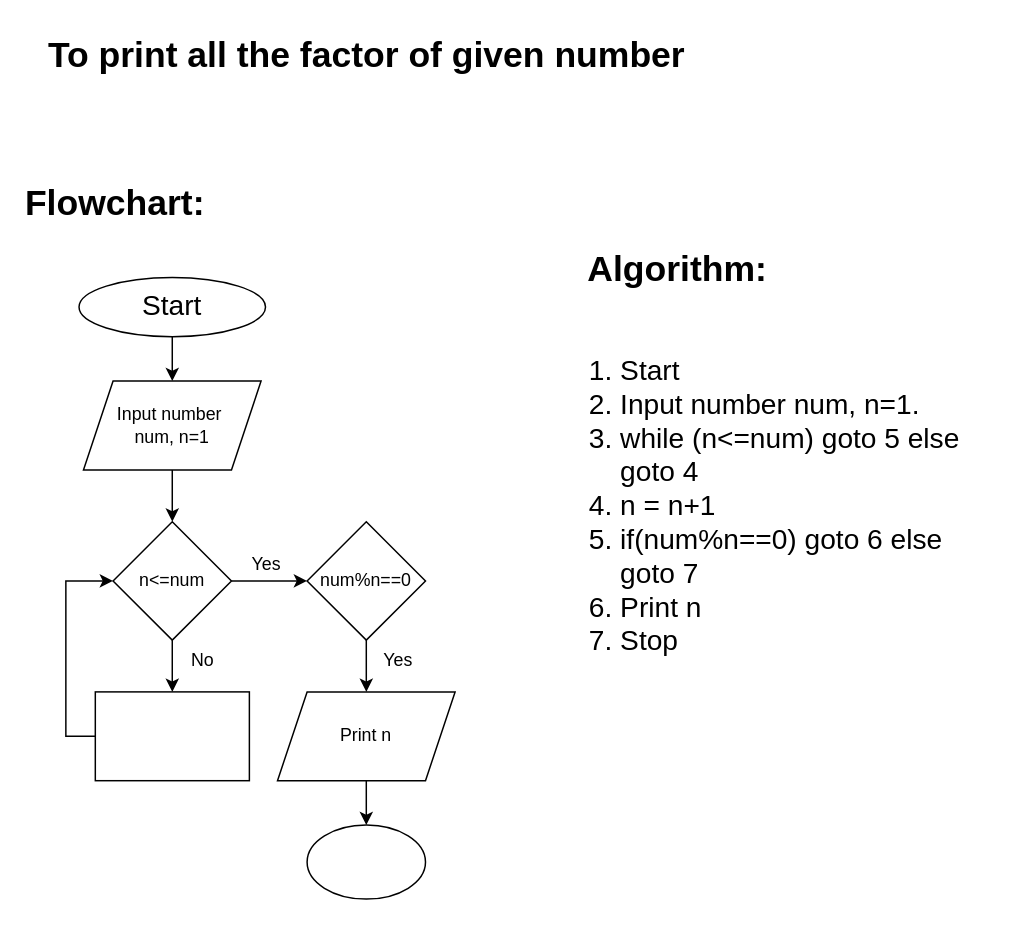
Image size: 1014x925. Some labels were removed from this diagram. Here are the shapes that lost their labels. From the top down, the centre of each, then its label:
(171,735): n = n+1
(366,861): End
